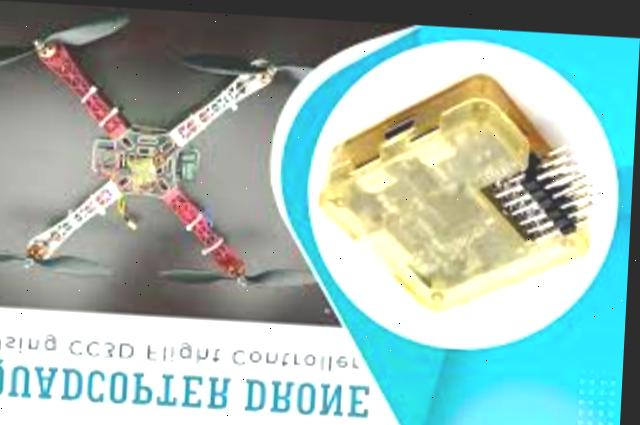drone: (0, 0, 330, 300)
